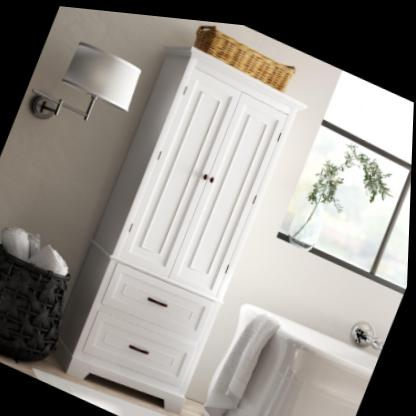Cabinet: (46, 234, 231, 416)
